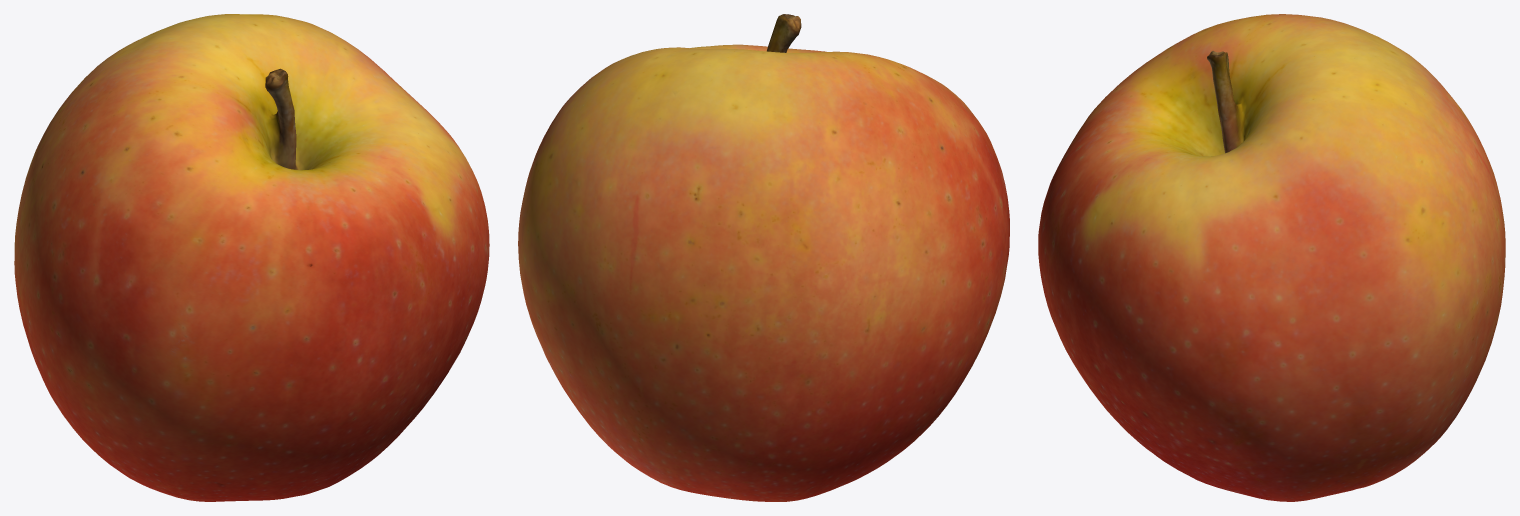
Rendered from 3DApple002_SQ-4K-JPG.obj.
The picture shows the model from 3 angles, left to right: view 1: azimuth 30°, elevation 25°; view 2: azimuth 150°, elevation 25°; view 3: azimuth 270°, elevation 25°; orthographic projection. The views are drawn at different scales.
Parts seen in each view (by area): view 1: 3DApple002_SQ-4K-JPG; view 2: 3DApple002_SQ-4K-JPG; view 3: 3DApple002_SQ-4K-JPG.
Part boxes in pixels (box(x1,y1,x2,y2)): 3DApple002_SQ-4K-JPG: box(14, 14, 489, 501); 3DApple002_SQ-4K-JPG: box(518, 14, 1009, 501); 3DApple002_SQ-4K-JPG: box(1038, 14, 1505, 501).
Size of the model in its own units: 0.0698 by 0.0676 by 0.0694.
